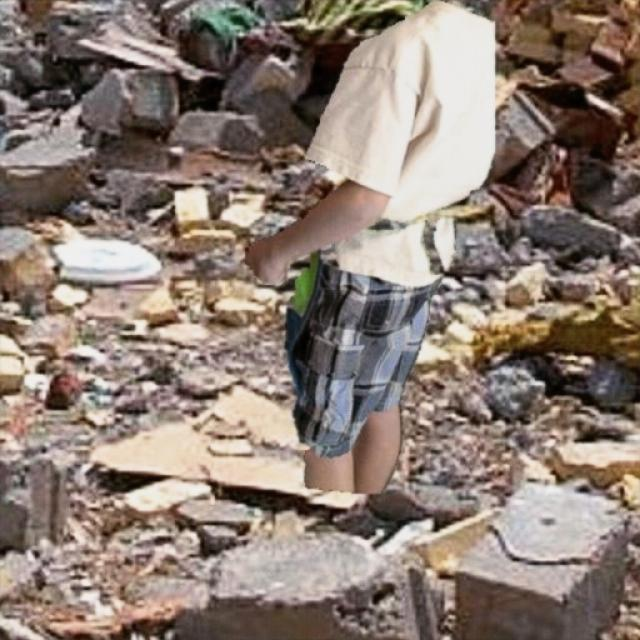Person in Rubble: (245, 1, 494, 492)
